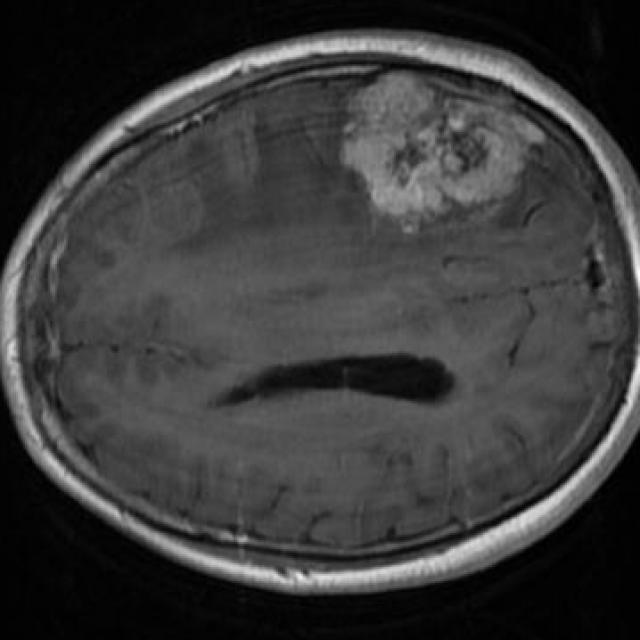meningioma: (346, 75, 544, 228)
